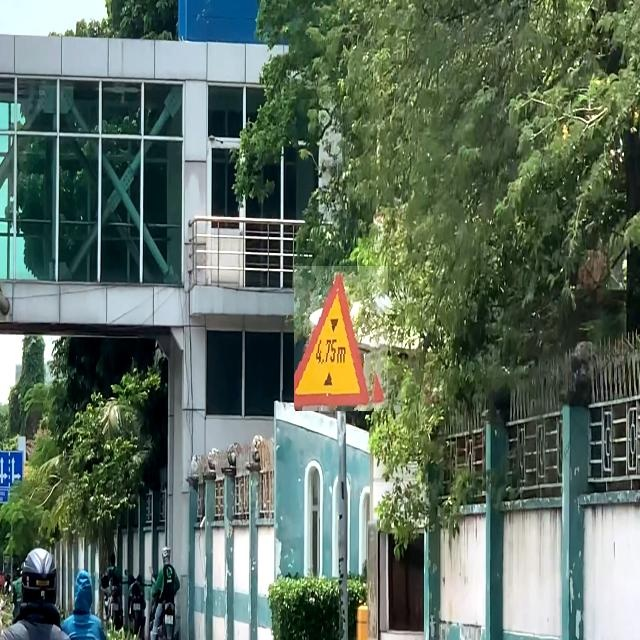bien_nguy_hiem: (294, 266, 388, 411)
